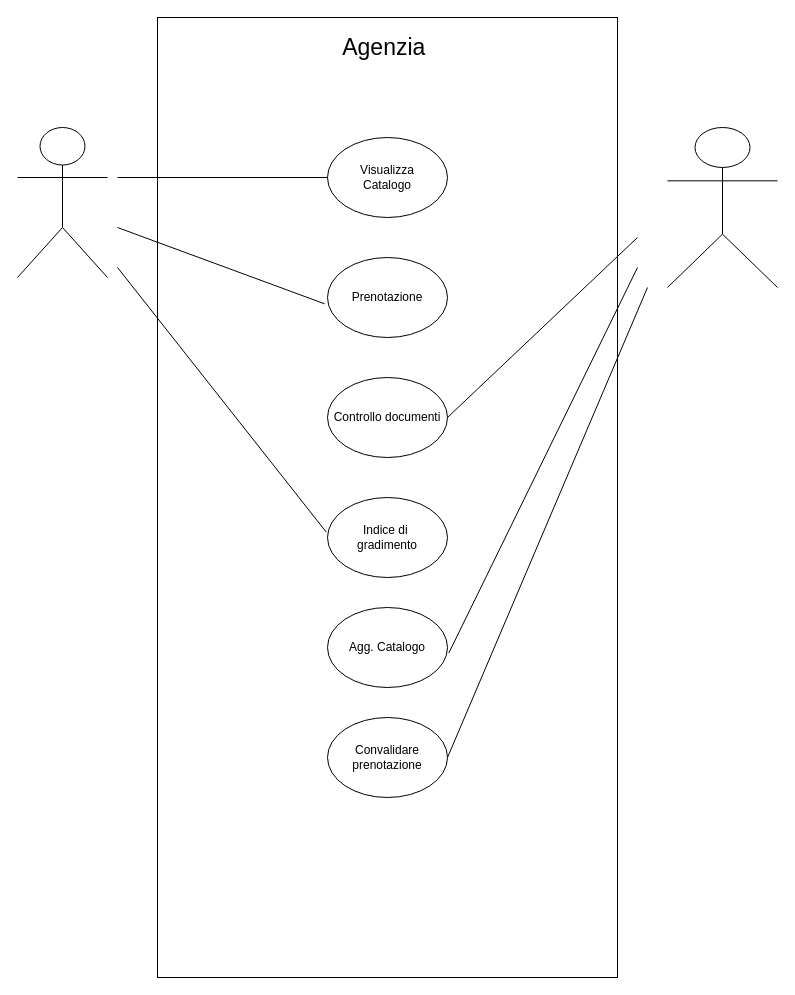
The diagram is 795 pixels wide and 995 high, and some of its shapes have lost their labels. The shapes that lost their labels are listed below. From the top down, each one's centre as x and y in pixels, then its label:
pixel 62 202: Utente
pixel 722 207: BackOffice
